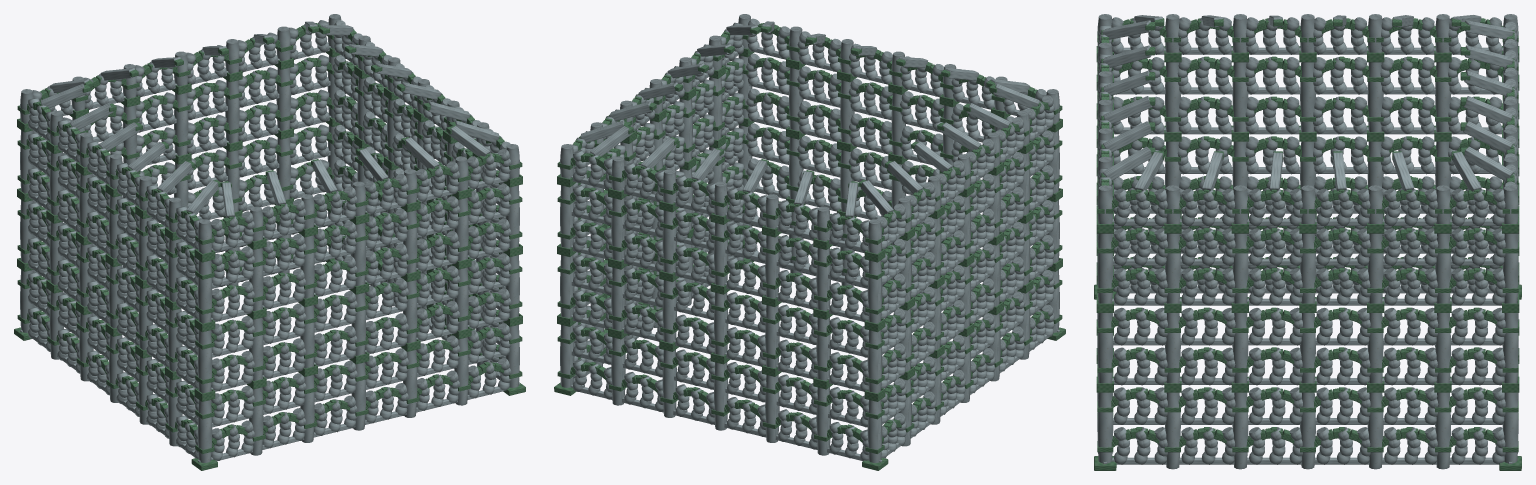
The picture shows the model from 3 angles, left to right: view 1: azimuth 30°, elevation 25°; view 2: azimuth 150°, elevation 25°; view 3: azimuth 270°, elevation 25°; orthographic projection. The views are drawn at different scales.
Visible parts, largest first — view 1: Tier 2 side 0 post 0, Tier 1 side 0 post 0, Tier 0 side 0 post 0, Tier 2 side 2 post 3, Tier 2 side 2 post 2, Tier 2 side 2 post 1, Tier 0 side 0 post 1, Tier 0 side 0 post 4, Tier 0 side 0 post 5, Tier 1 side 2 post 1, Tier 0 side 0 post 2, Tier 0 side 0 post 3 (+19 smaller); view 2: Tier 2 side 3 post 0, Tier 1 side 3 post 0, Tier 0 side 3 post 0, Tier 0 side 2 post 2, Tier 0 side 2 post 5, Tier 0 side 2 post 1, Tier 0 side 2 post 3, Tier 0 side 2 post 4, Tier 1 side 2 post 0, Tier 2 side 2 post 0, Tier 0 side 2 post 0, Tier 2 side 2 post 2 (+13 smaller); view 3: Tier 2 side 1 post 0, Tier 0 side 1 post 4, Tier 0 side 1 post 0, Tier 0 side 1 post 2, Tier 1 side 1 post 0, Tier 0 side 1 post 1, Tier 0 side 1 post 3, Tier 0 side 1 post 5, Tier 2 side 2 post 0, Tier 0 side 2 post 0, Tier 1 side 2 post 0, Tier 2 side 3 post 4 (+47 smaller).
Boxes of the visible parts, <box> form: Tier 2 side 0 post 0: <box>197,260,212,323</box>; Tier 1 side 0 post 0: <box>197,330,212,393</box>; Tier 0 side 0 post 0: <box>197,400,212,462</box>; Tier 2 side 2 post 3: <box>174,93,188,155</box>; Tier 2 side 2 post 2: <box>225,80,239,143</box>; Tier 2 side 2 post 1: <box>276,68,290,130</box>; Tier 0 side 0 post 1: <box>249,387,263,455</box>; Tier 0 side 0 post 4: <box>403,350,417,417</box>; Tier 0 side 0 post 5: <box>454,337,468,405</box>; Tier 1 side 2 post 1: <box>276,137,290,199</box>; Tier 0 side 0 post 2: <box>300,375,314,442</box>; Tier 0 side 0 post 3: <box>351,362,365,430</box>; Tier 2 side 3 post 0: <box>867,260,882,323</box>; Tier 1 side 3 post 0: <box>867,330,882,393</box>; Tier 0 side 3 post 0: <box>867,400,882,462</box>; Tier 0 side 2 post 2: <box>662,350,676,417</box>; Tier 0 side 2 post 5: <box>816,387,830,455</box>; Tier 0 side 2 post 1: <box>611,337,625,405</box>; Tier 0 side 2 post 3: <box>713,362,728,430</box>; Tier 0 side 2 post 4: <box>765,375,779,442</box>; Tier 1 side 2 post 0: <box>560,255,574,318</box>; Tier 2 side 2 post 0: <box>560,185,574,248</box>; Tier 0 side 2 post 0: <box>560,325,574,387</box>; Tier 2 side 2 post 2: <box>662,210,676,273</box>; Tier 2 side 1 post 0: <box>1097,233,1113,303</box>; Tier 0 side 1 post 4: <box>1367,392,1383,469</box>; Tier 0 side 1 post 0: <box>1097,392,1113,463</box>; Tier 0 side 1 post 2: <box>1232,392,1248,469</box>; Tier 1 side 1 post 0: <box>1097,313,1113,383</box>; Tier 0 side 1 post 1: <box>1165,392,1180,469</box>; Tier 0 side 1 post 3: <box>1300,392,1315,469</box>; Tier 0 side 1 post 5: <box>1435,392,1450,469</box>; Tier 2 side 2 post 0: <box>1502,233,1518,303</box>; Tier 0 side 2 post 0: <box>1502,392,1518,463</box>; Tier 1 side 2 post 0: <box>1502,313,1518,383</box>; Tier 2 side 3 post 4: <box>1232,62,1248,132</box>.
Size of the model in its own units: 2.85 by 2.17 by 2.85.
2 materials, 2 textured.
